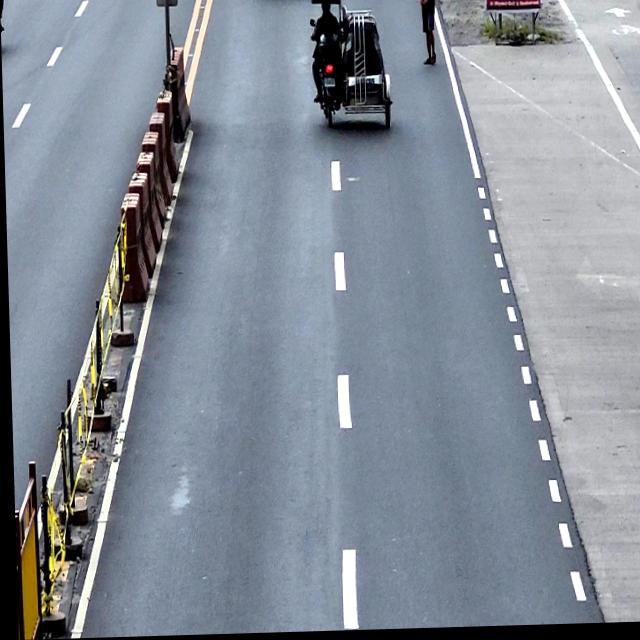License-Plate: (323, 78, 335, 91)
Tricycle: (308, 0, 393, 134)
